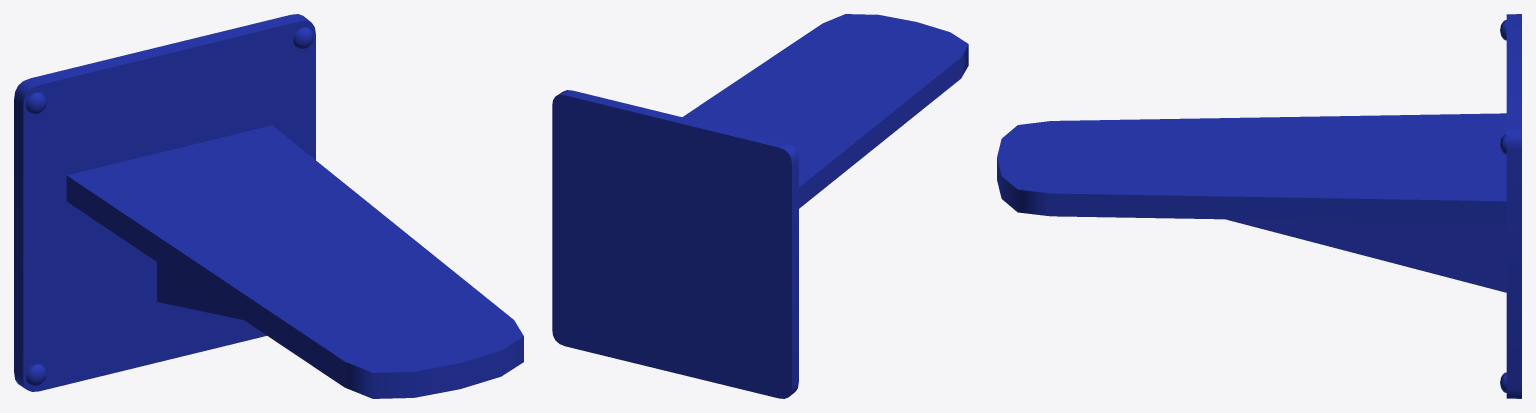
The model's file is WallStand.fbx.
3 views of the same model, side by side, from view 1: azimuth 30°, elevation 25°; view 2: azimuth 150°, elevation 25°; view 3: azimuth 270°, elevation 25° (orthographic). The views are drawn at different scales.
Visible parts, largest first — view 1: Wall_Low; view 2: Wall_Low; view 3: Wall_Low.
Boxes of the visible parts, x1=… form: Wall_Low: x1=14, y1=14, x2=523, y2=398; Wall_Low: x1=552, y1=14, x2=968, y2=398; Wall_Low: x1=997, y1=14, x2=1521, y2=398.
Bounding box in the file's own units: 6.2 × 6.2 × 10.96.
